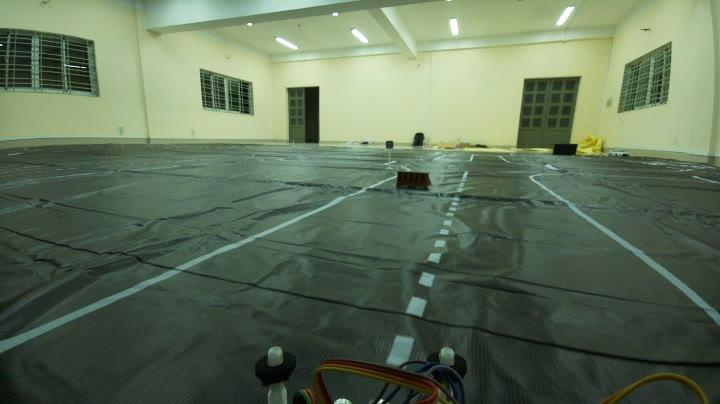roadblock: (393, 169, 434, 194)
